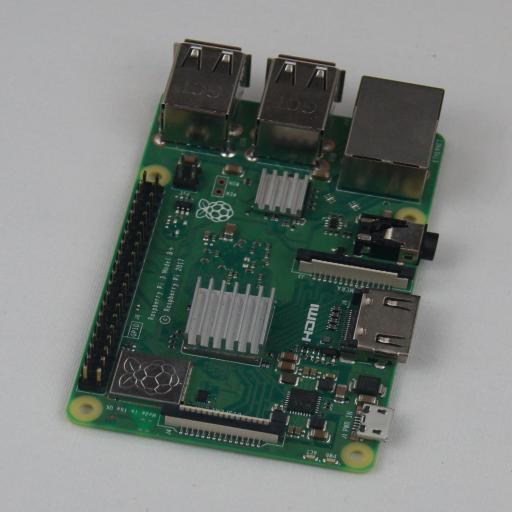Raspberry Pi 3 B-: (69, 39, 445, 473)
